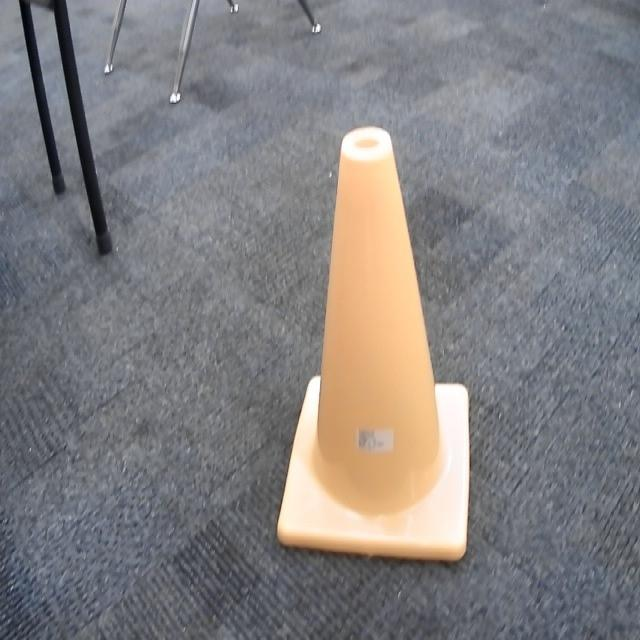cone: (278, 123, 472, 570)
